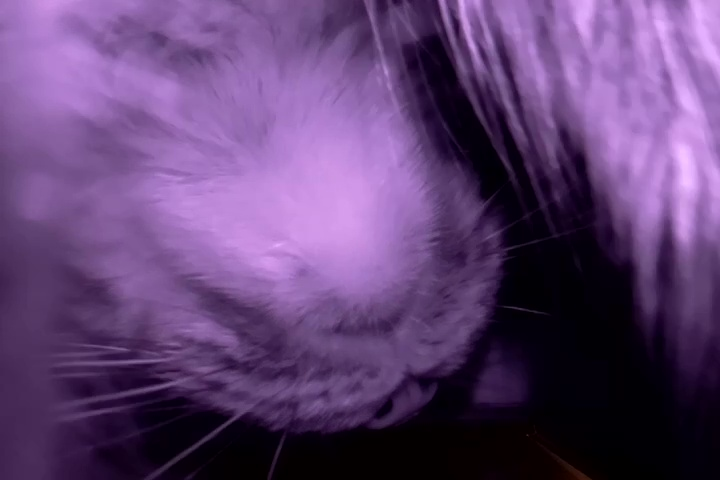Snout: (283, 246, 473, 426)
